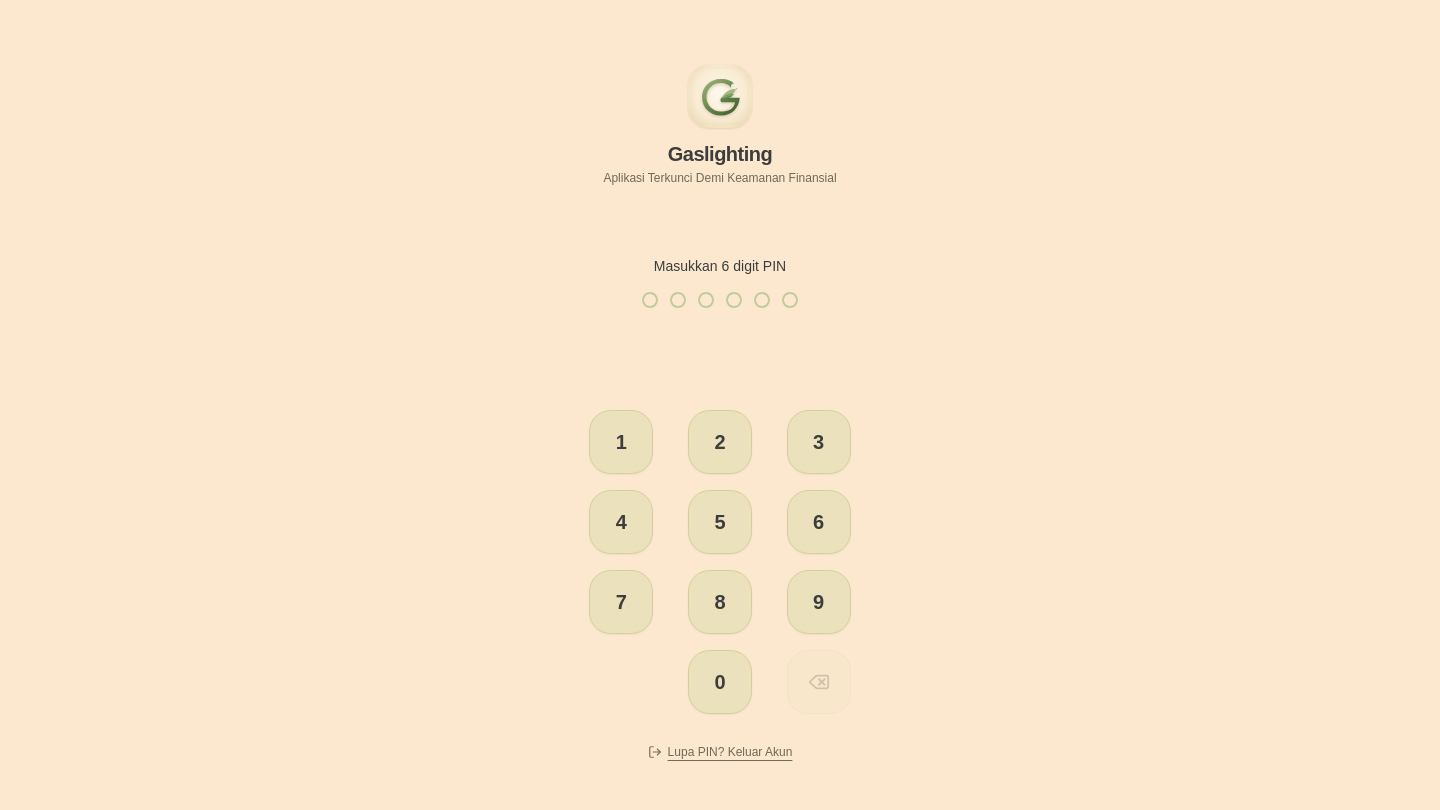
Test: AppLockScreen › displays error message and resets dots when incorrect PIN is entered
The width and height of the screenshot is (1440, 810).
Click the button with test id "keypad-1". click: (621, 442)
box: [589,410,653,474]
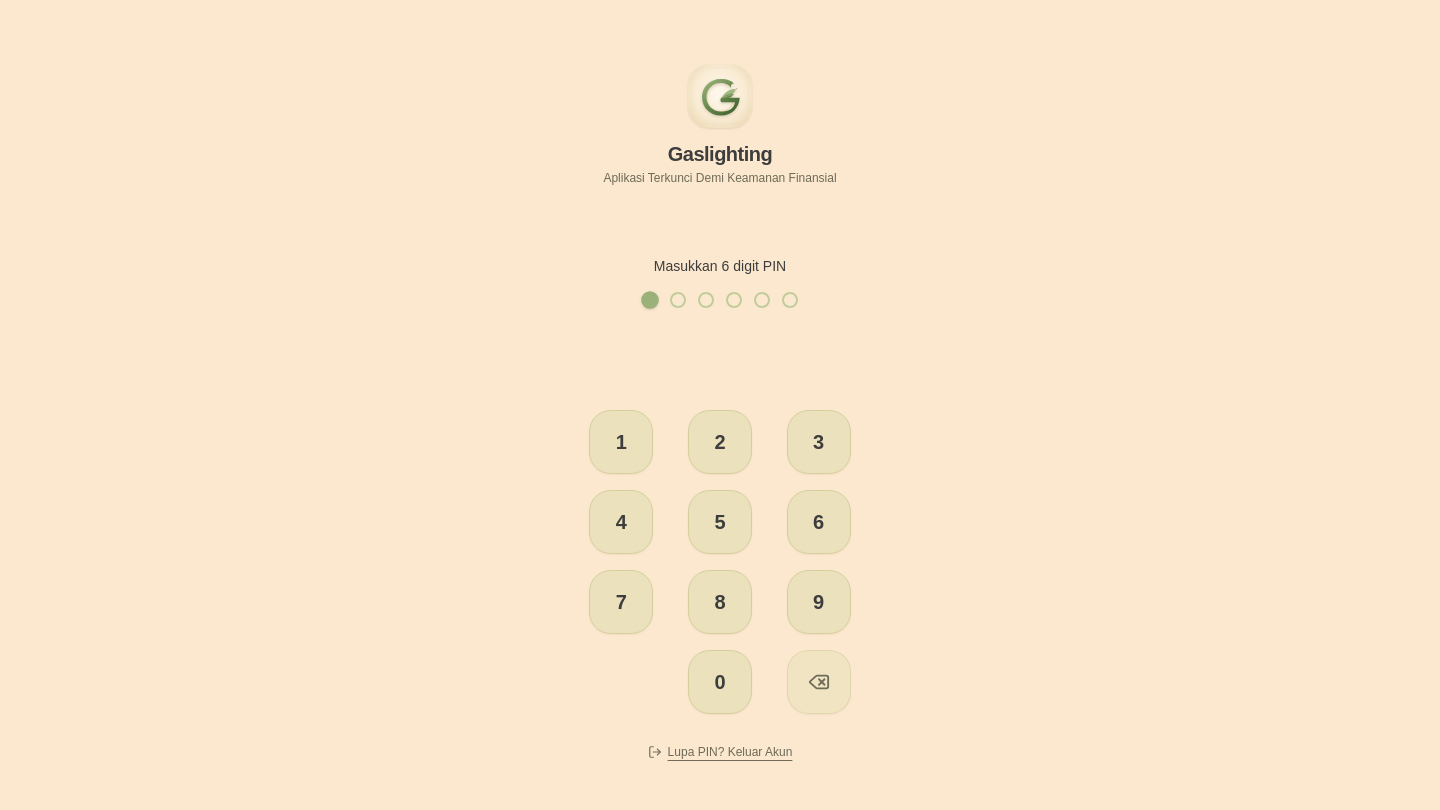
Click the button "2". click: (720, 442)
box: [688,410,752,474]
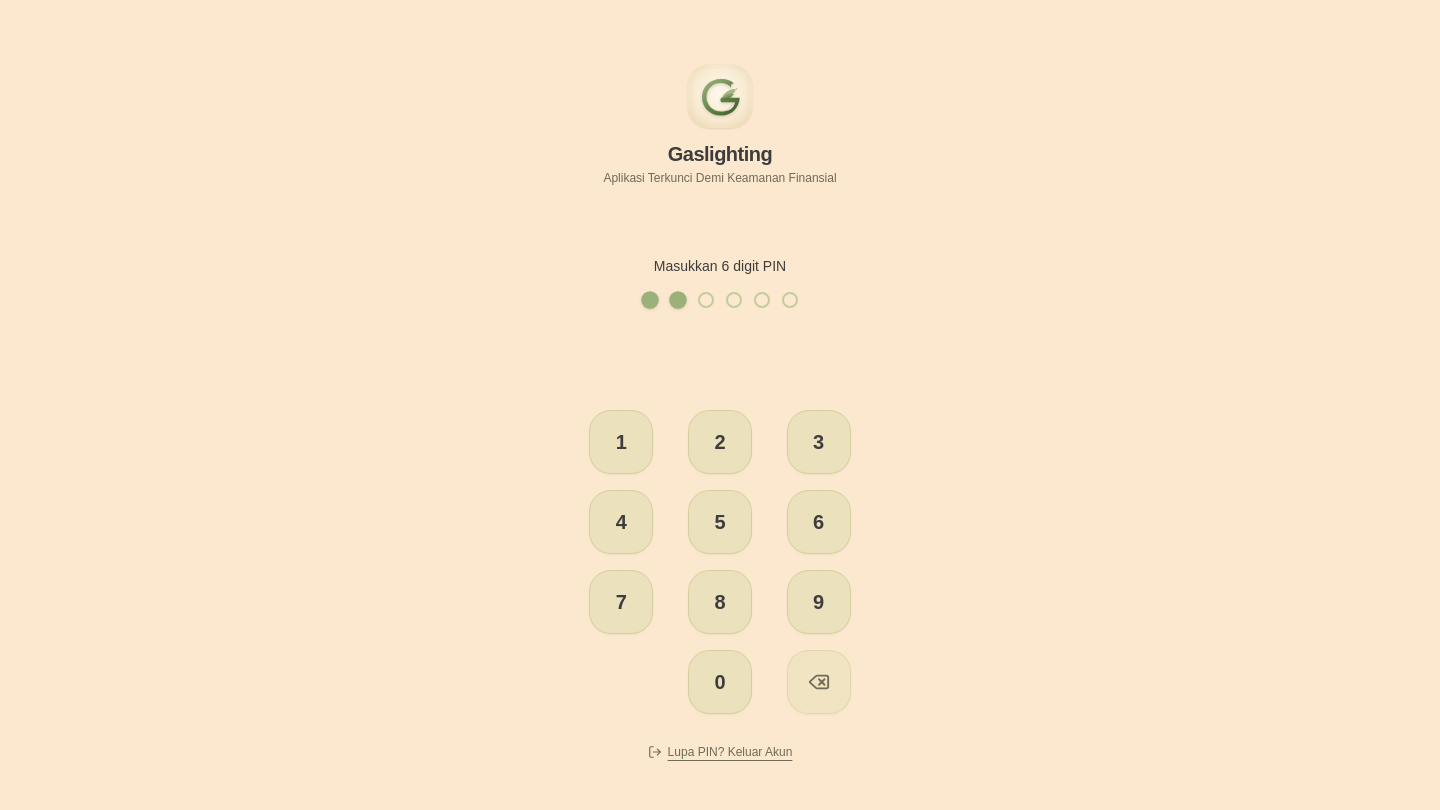
Click the button "3". click: (819, 442)
box: [787,410,851,474]
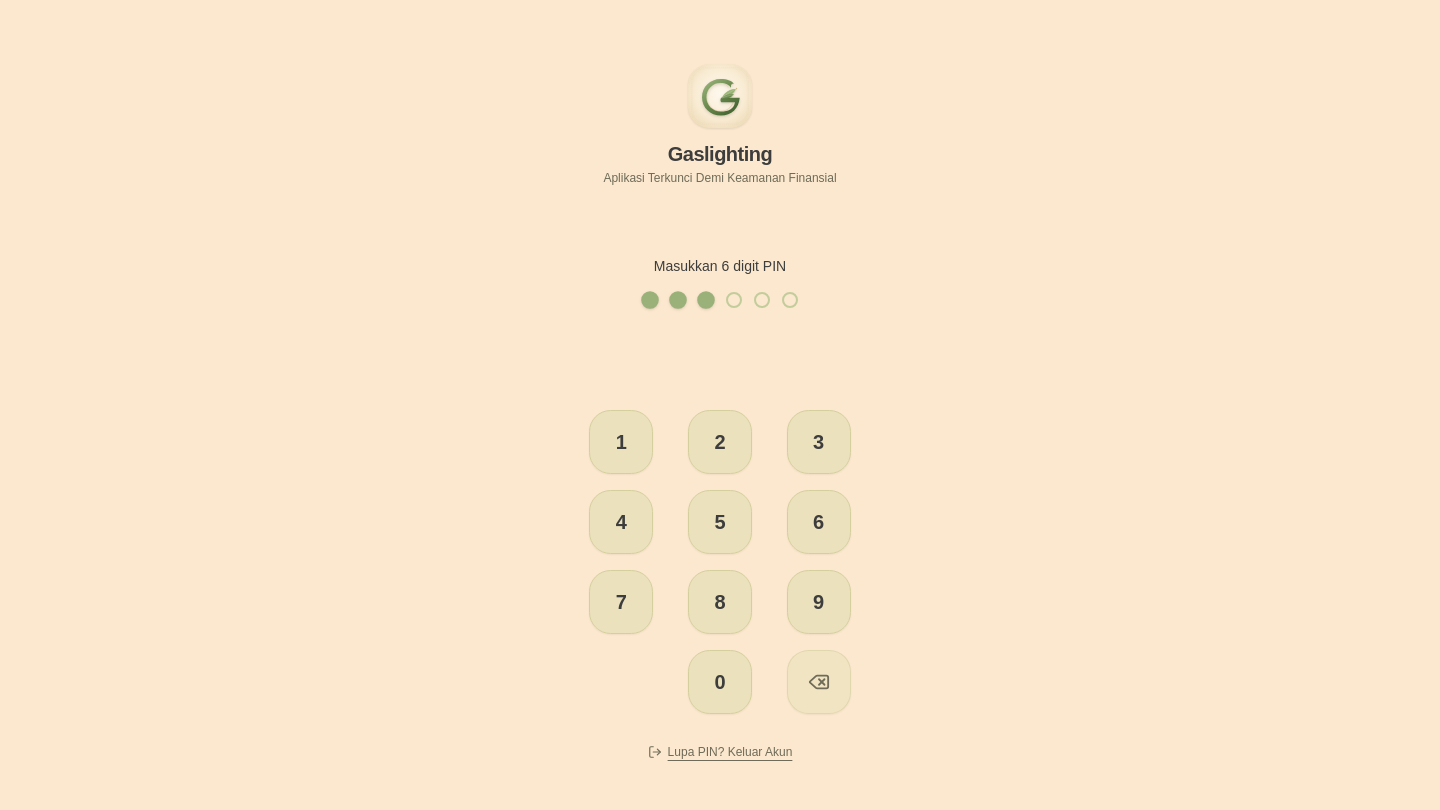
Click the button "4". click: (621, 522)
box: [589,490,653,554]
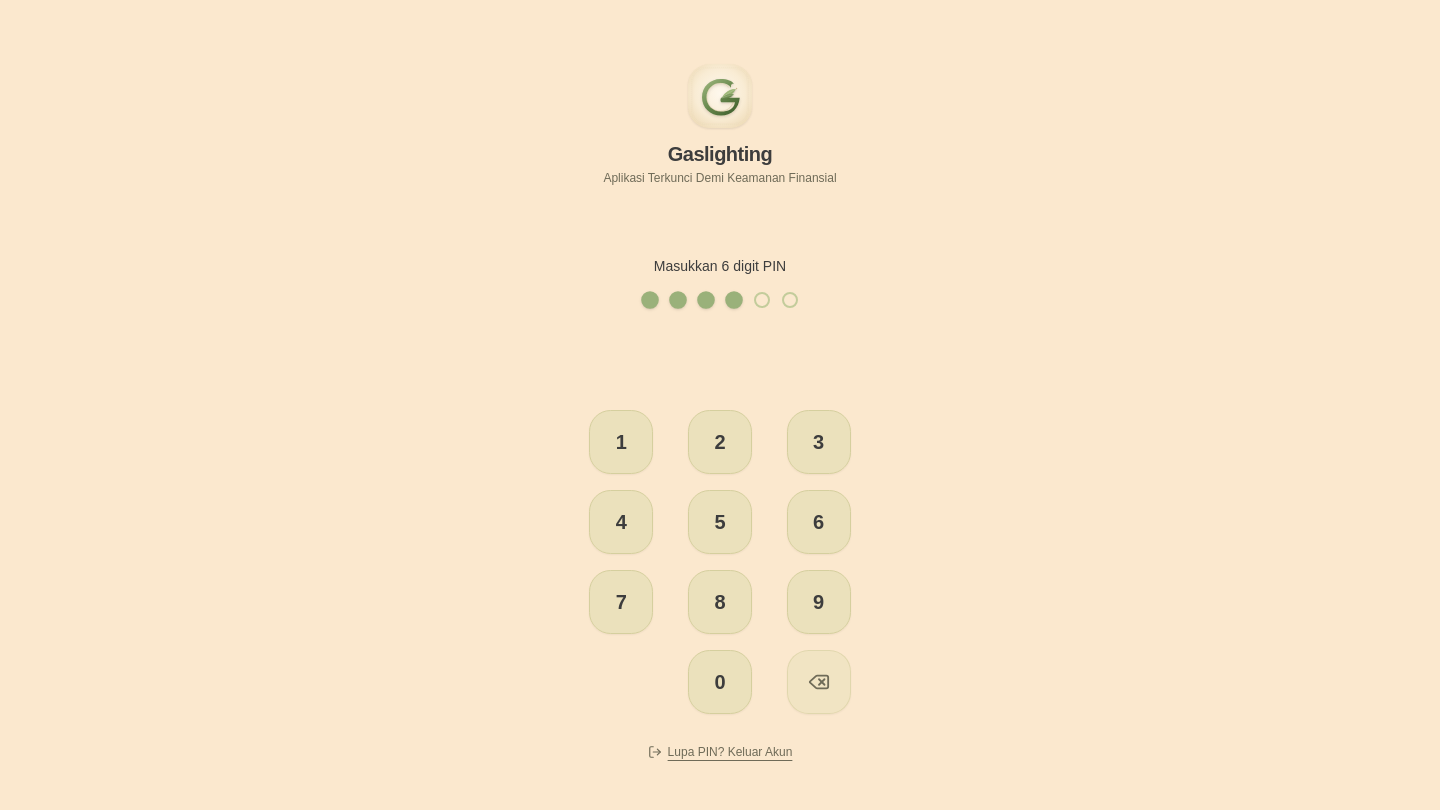
Click the button with test id "keypad-5". click: (720, 522)
box: [688,490,752,554]
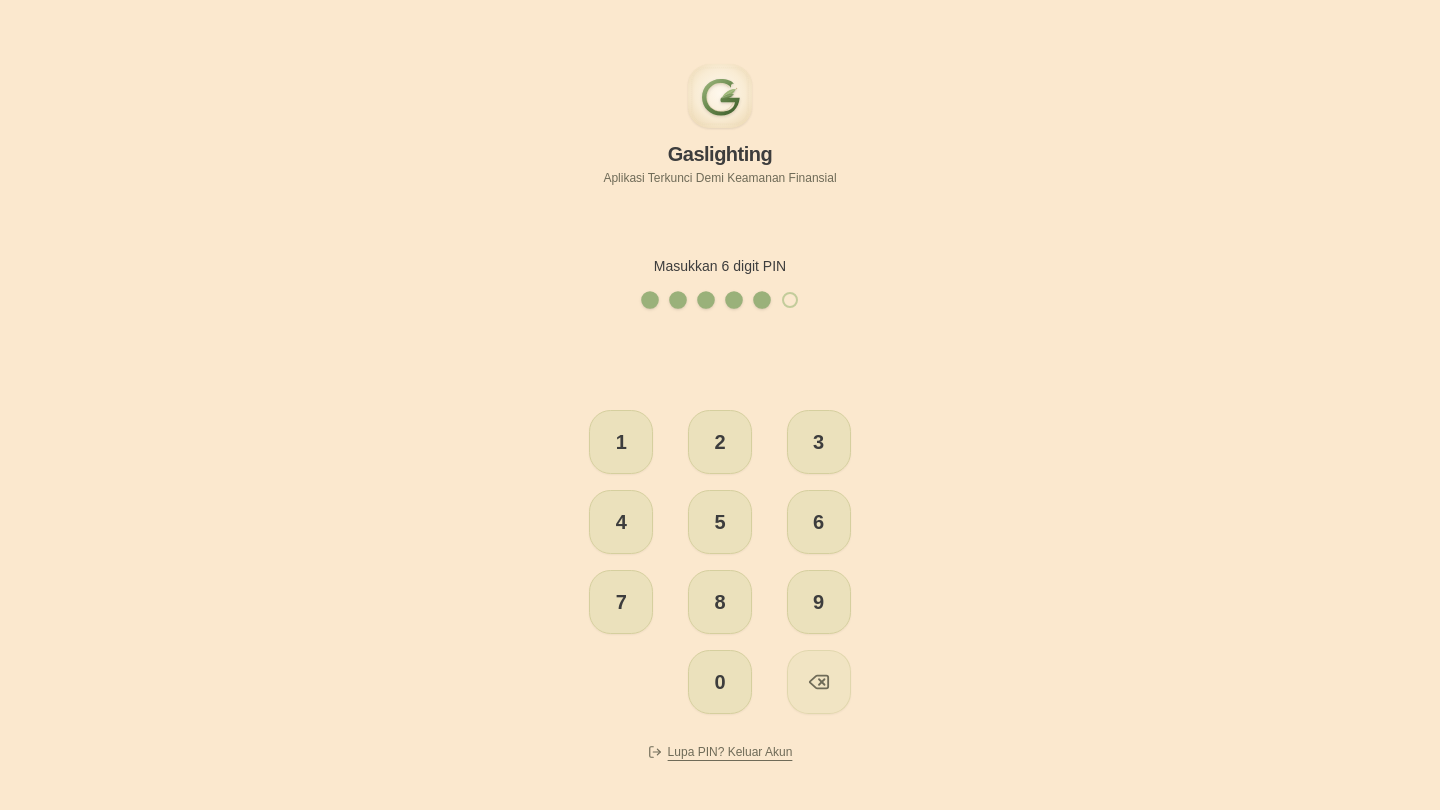
Click the button "6". click: (819, 522)
box: [787,490,851,554]
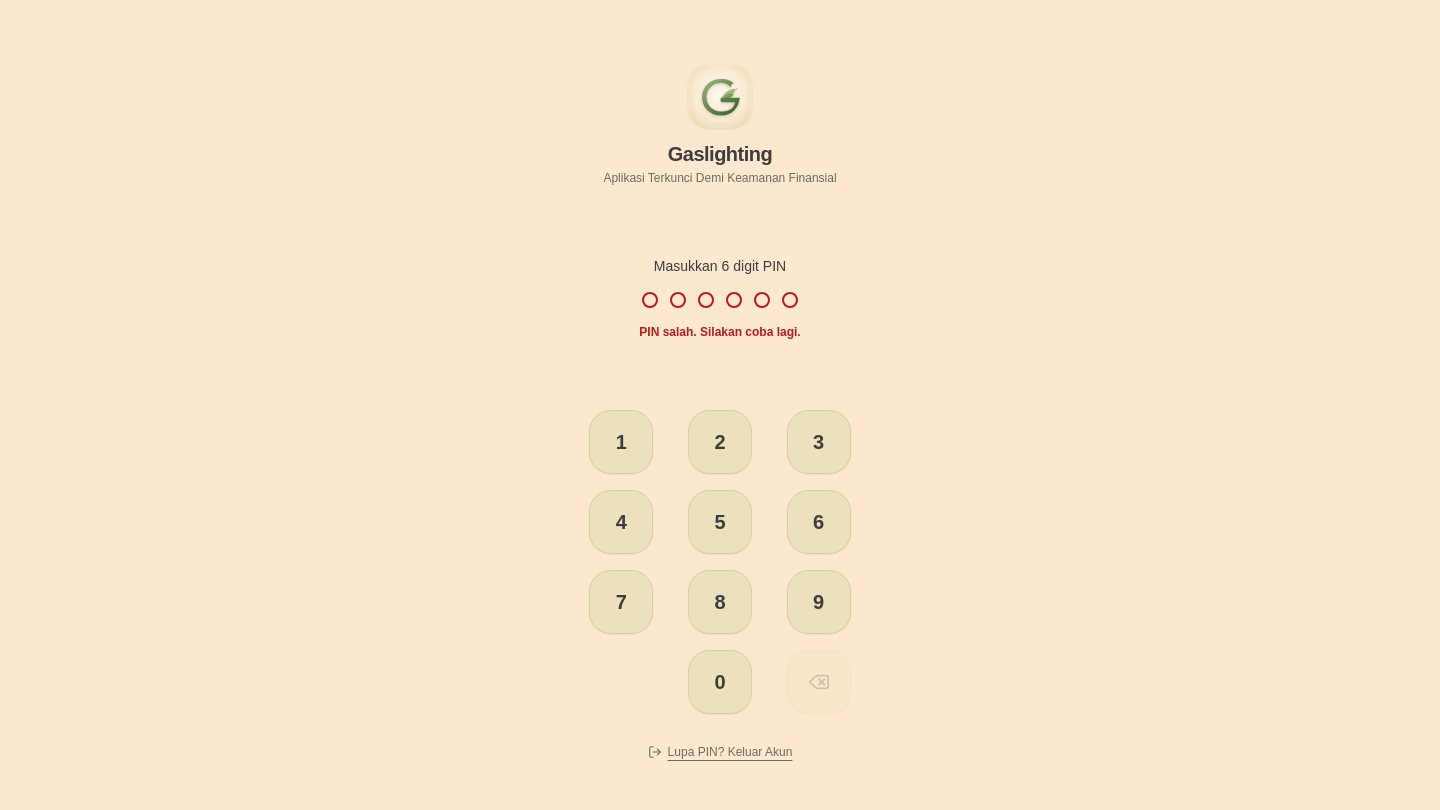
Check: the text "PIN salah. Silakan coba lagi." is shown, box [639,324,801,340]
